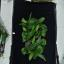leaf: (22, 18, 33, 28), (37, 52, 48, 62), (28, 30, 36, 40), (27, 42, 40, 48), (33, 49, 40, 58), (21, 48, 28, 56), (41, 38, 47, 46), (22, 33, 27, 42), (29, 51, 34, 60), (41, 24, 48, 30), (37, 17, 45, 22), (41, 30, 46, 38)
